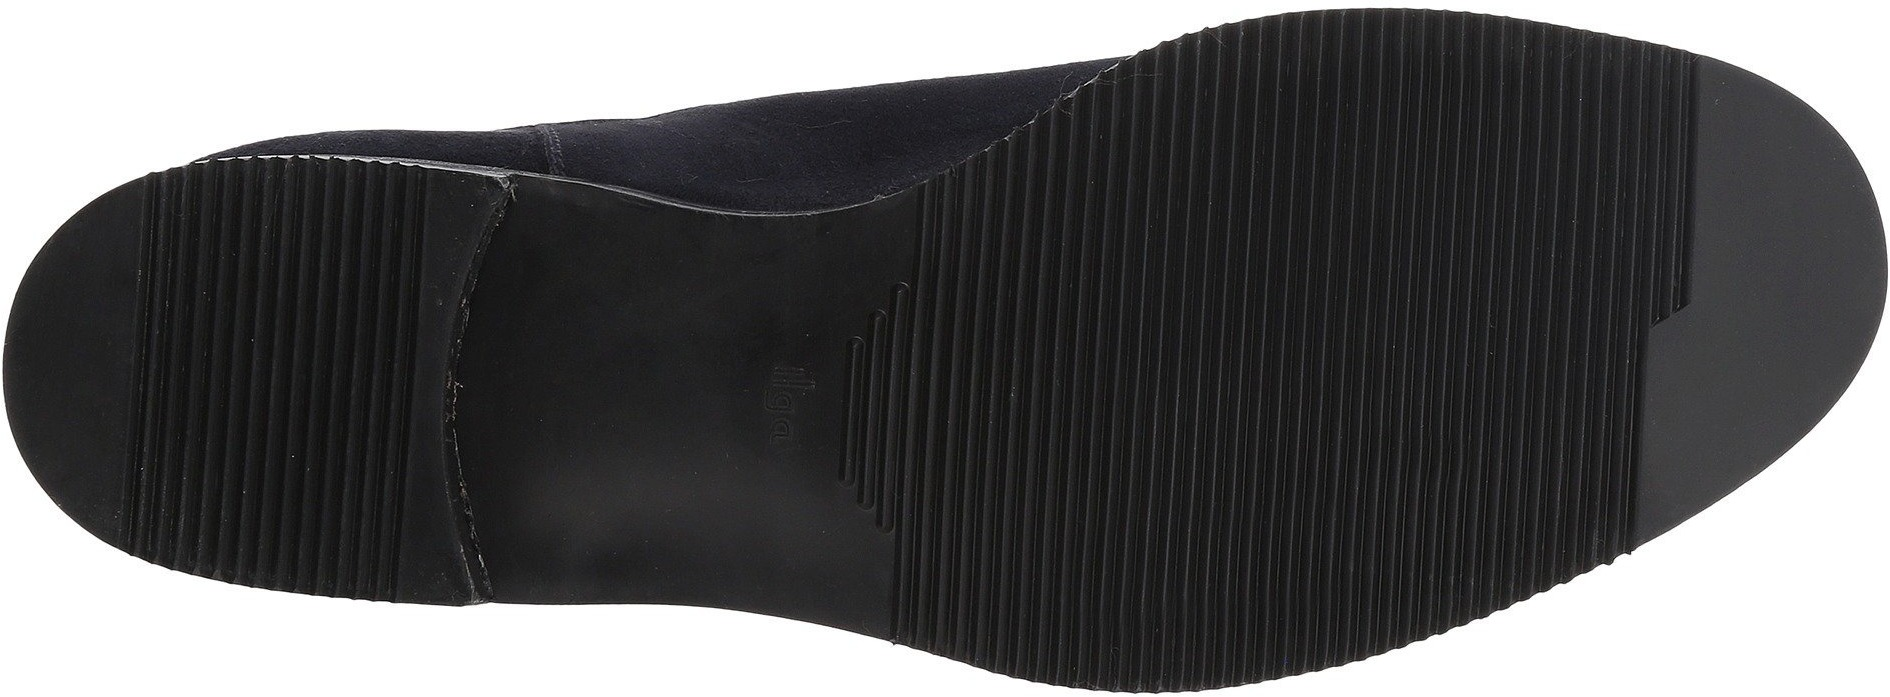line: (909, 307, 1128, 539)
other: (1132, 49, 1648, 506), (899, 247, 1340, 642), (115, 229, 421, 519), (539, 298, 739, 490), (1706, 153, 1849, 297), (1679, 320, 1791, 427)
text: (744, 356, 841, 452)
